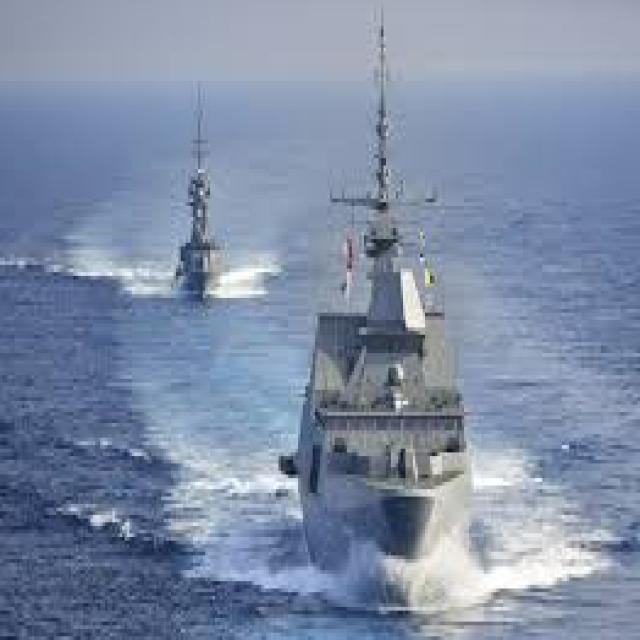navalvessels: (279, 16, 499, 586), (158, 90, 231, 284)
